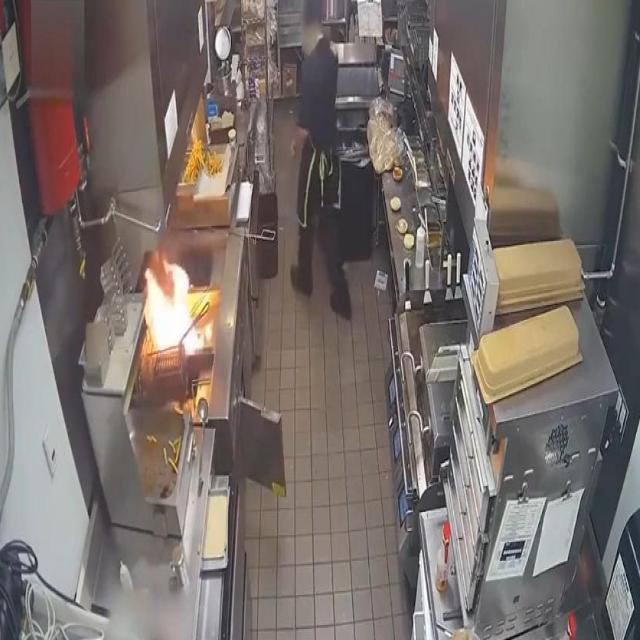smoke: (141, 250, 206, 361)
